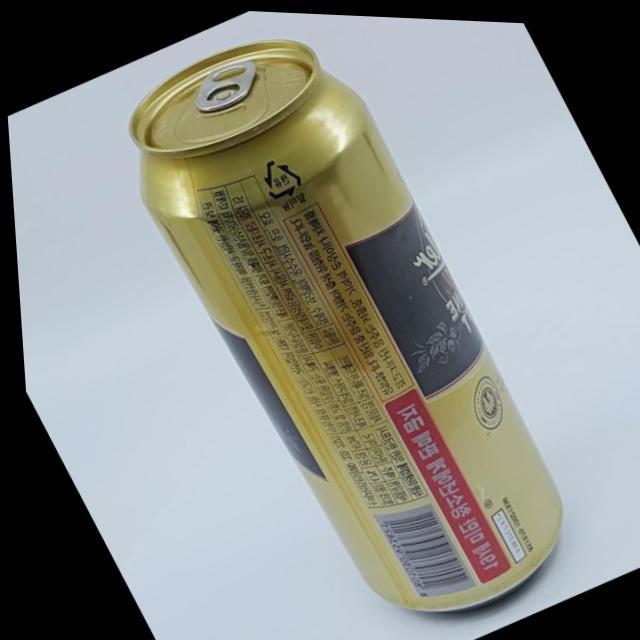metal: (130, 18, 639, 610)
